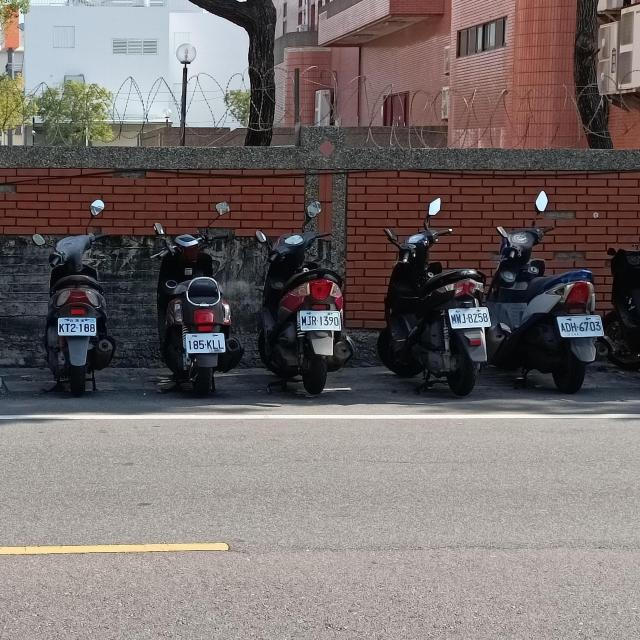W: (554, 312, 604, 338), (446, 306, 491, 329), (297, 309, 342, 331), (185, 332, 225, 353), (57, 316, 97, 336)
